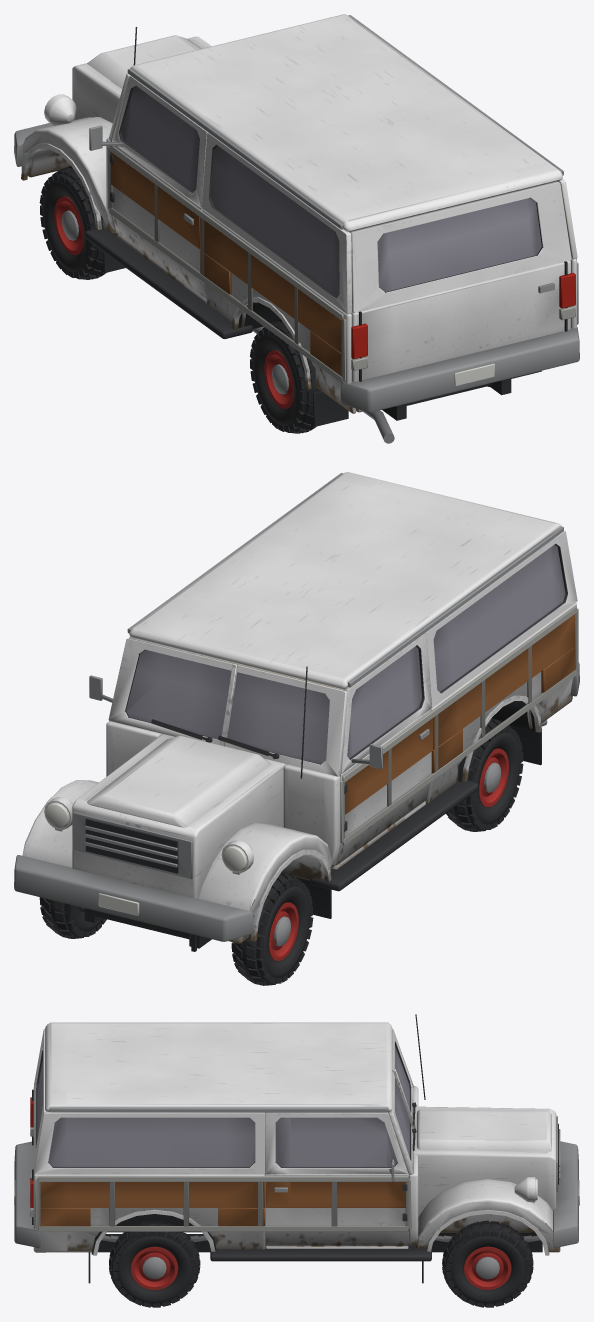
File: woodbox.glb
3 renders of one model, top to bottom at view 1: azimuth 30°, elevation 25°; view 2: azimuth 150°, elevation 25°; view 3: azimuth 270°, elevation 25°, orthographic. The views are drawn at different scales.
Visible parts, largest first — view 1: body, door_FL, wheel_RL, wheel_FL; view 2: body, door_FL, wheel_FL, wheel_RL, wheel_FR; view 3: body, door_FR, wheel_FR, wheel_RR.
Boxes of the visible parts, x1,y1,x2,y2 form: body: [14, 14, 579, 443]; door_FL: [89, 76, 208, 298]; wheel_RL: [250, 320, 320, 433]; wheel_FL: [39, 166, 106, 279]; body: [14, 472, 579, 951]; door_FL: [336, 633, 432, 865]; wheel_FL: [231, 872, 313, 985]; wheel_RL: [446, 718, 523, 831]; wheel_FR: [39, 897, 106, 938]; body: [14, 1014, 579, 1283]; door_FR: [265, 1112, 408, 1245]; wheel_FR: [442, 1220, 533, 1307]; wheel_RR: [109, 1220, 200, 1307].
Size of the model in its own units: 2.35 by 2.14 by 4.96.
Materials: 17 (1 with a texture image).
